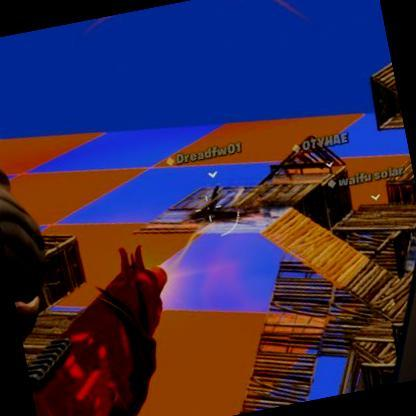person: (209, 178, 220, 208)
